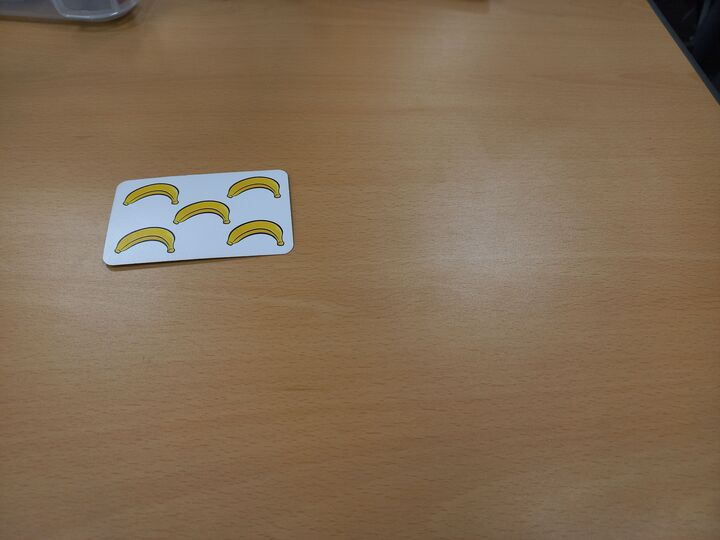banana5: (102, 168, 298, 269)
